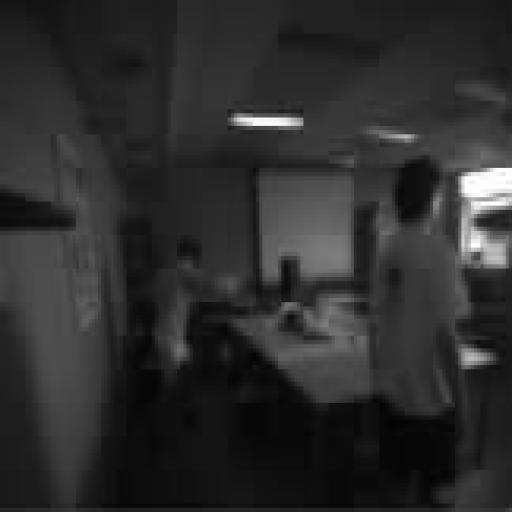human: (370, 156, 470, 507), (155, 236, 205, 381)
